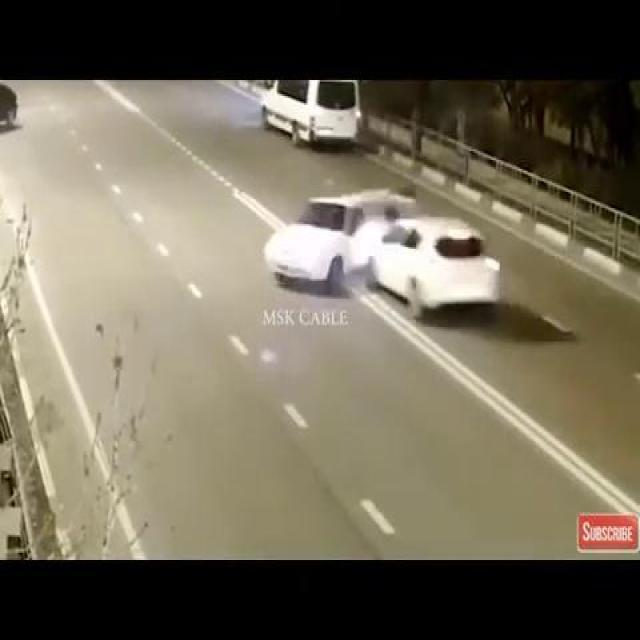accident: (283, 170, 487, 323)
